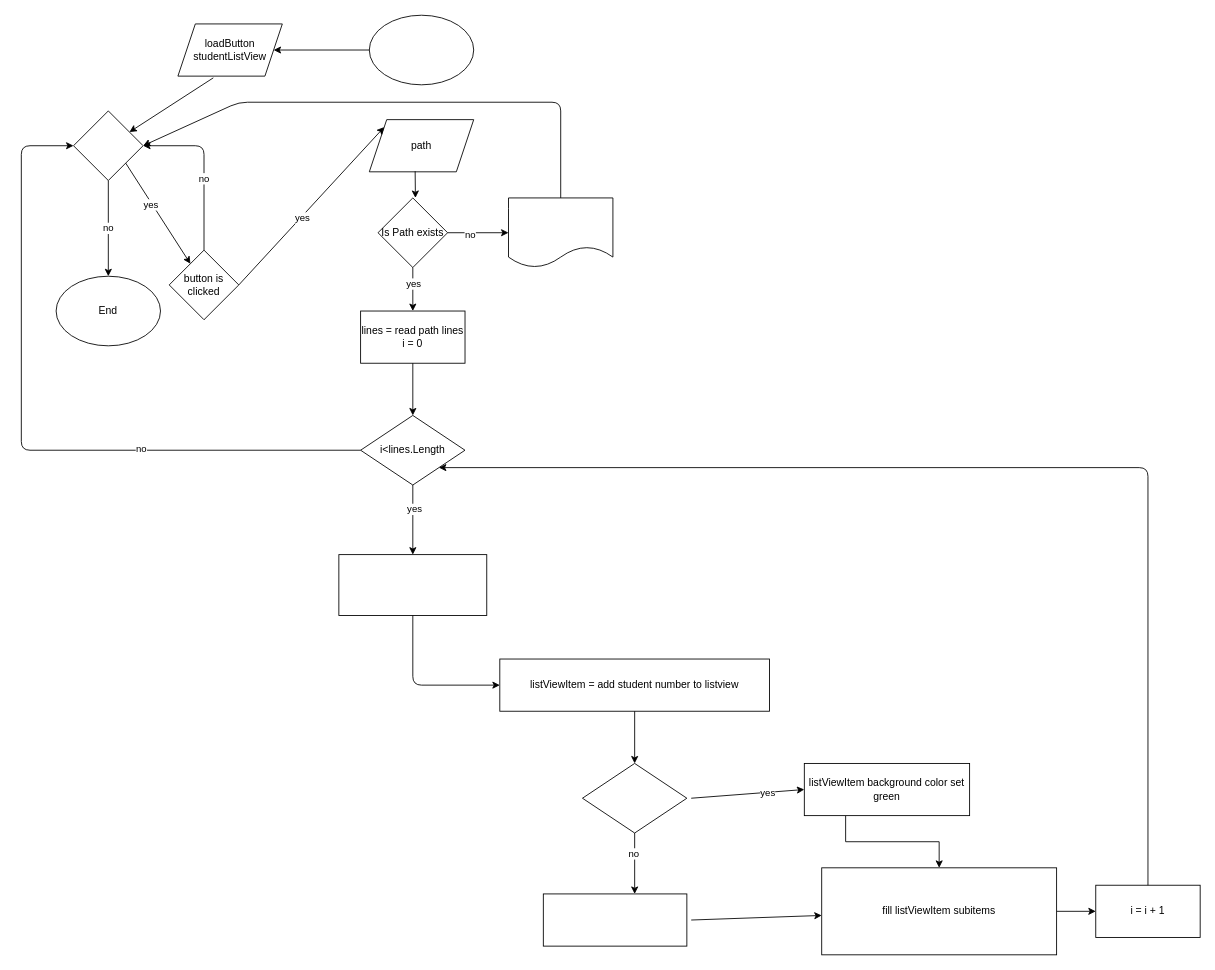
The diagram is 1215 pixels wide and 970 high, and some of its shapes have lost their labels. Each missing label, with the box of its shape:
File not found: (508, 197, 613, 268)
Is Program running: (73, 110, 143, 181)
line = lines[i] student = line parse to student: (338, 554, 487, 616)
listViewItem background color set red: (542, 893, 687, 946)
start: (368, 14, 474, 85)
student is pass: (582, 763, 687, 833)
